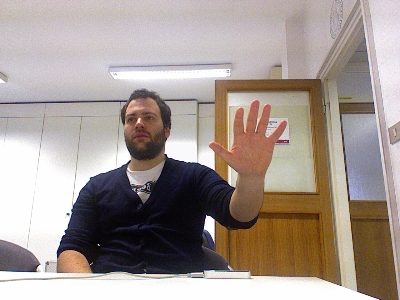布: (207, 98, 287, 178)
